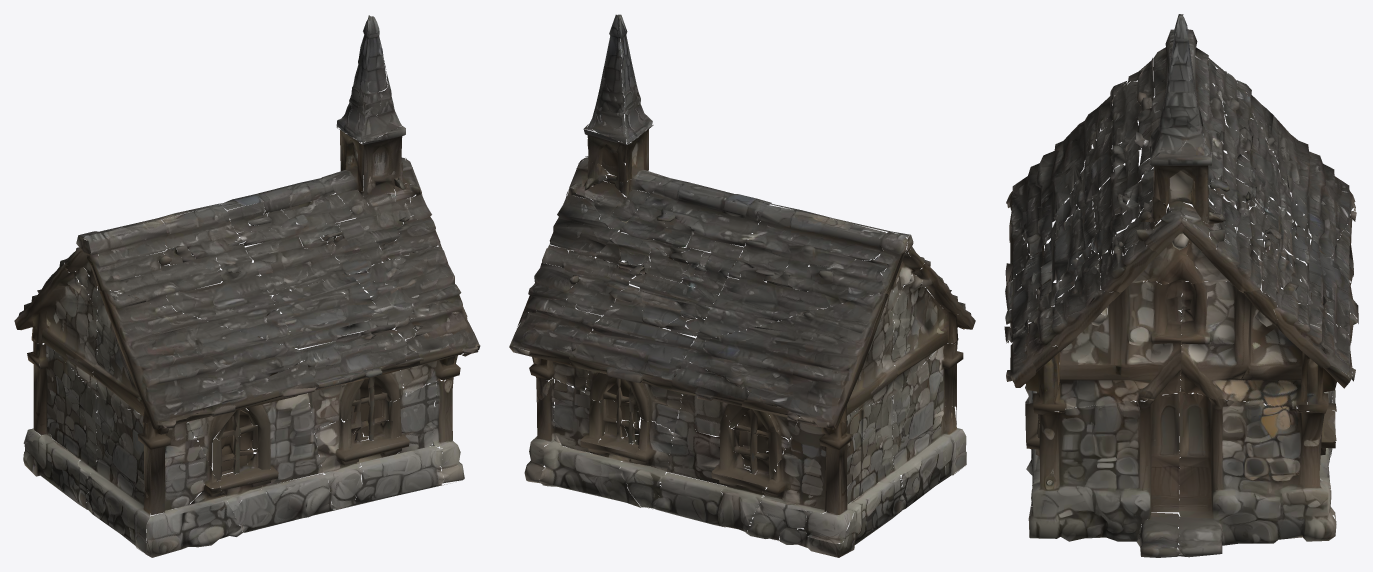
Rendered from chapel.glb.
3 views of the same model, side by side, from view 1: azimuth 30°, elevation 25°; view 2: azimuth 150°, elevation 25°; view 3: azimuth 270°, elevation 25° (orthographic). The views are drawn at different scales.
Visible parts, largest first — view 1: tripo_node_c5e88390-98d9-4c86-9c24-93f7c3d2edca; view 2: tripo_node_c5e88390-98d9-4c86-9c24-93f7c3d2edca; view 3: tripo_node_c5e88390-98d9-4c86-9c24-93f7c3d2edca.
Boxes of the visible parts, x1,y1,x2,y2 form: tripo_node_c5e88390-98d9-4c86-9c24-93f7c3d2edca: (14, 15, 480, 557); tripo_node_c5e88390-98d9-4c86-9c24-93f7c3d2edca: (509, 14, 975, 557); tripo_node_c5e88390-98d9-4c86-9c24-93f7c3d2edca: (1004, 14, 1358, 557).
Bounding box in the file's own units: 5.4 × 6.34 × 3.97.
Materials: 1 (1 with a texture image).
